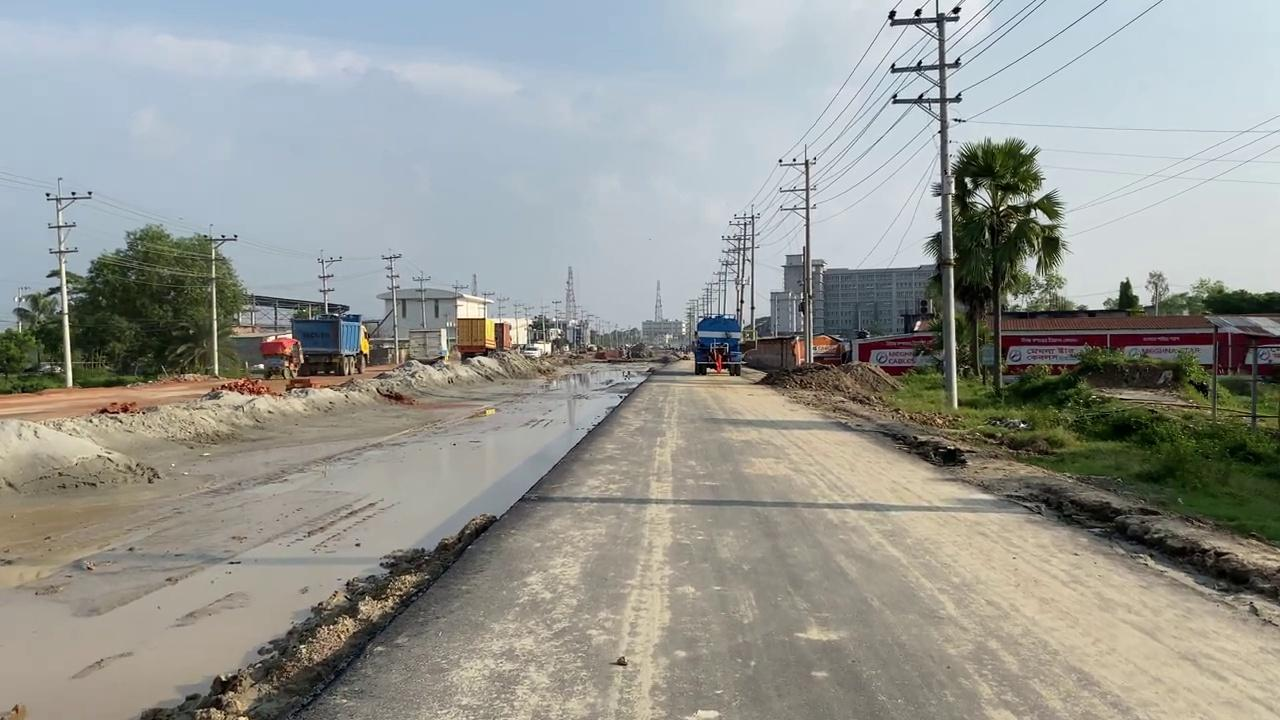Obstacle: (290, 313, 364, 375), (743, 333, 799, 372)
Pole: (887, 0, 964, 410), (777, 145, 817, 363)
Sidewalk: (1, 356, 655, 718)
Stuck-water: (714, 352, 722, 373)
Traffic-sign: (922, 135, 1072, 392)
Tree: (692, 313, 743, 375), (259, 335, 302, 379), (455, 317, 496, 362)
